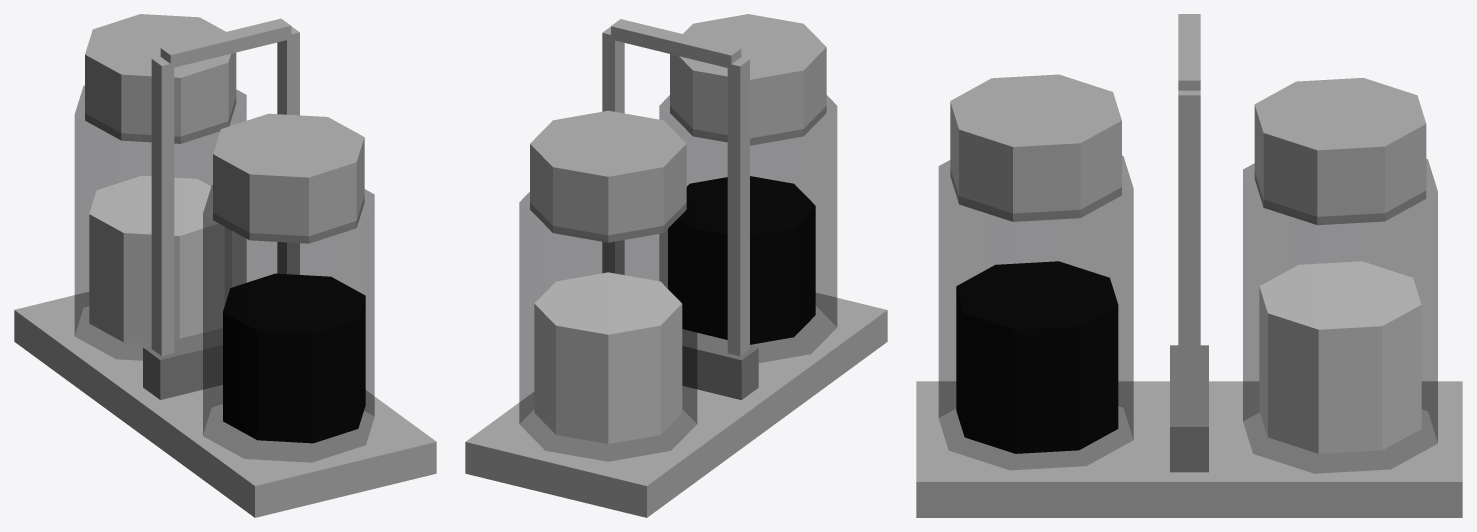
Rendered from SM_foodSaltPepper.glb.
3 renders of one model, left to right at view 1: azimuth 30°, elevation 25°; view 2: azimuth 150°, elevation 25°; view 3: azimuth 270°, elevation 25°, orthographic. The views are drawn at different scales.
Parts seen in each view (by area): view 1: SM_foodSaltPepper; view 2: SM_foodSaltPepper; view 3: SM_foodSaltPepper.
Part boxes in pixels (<box>): SM_foodSaltPepper: <box>14,14,436,517</box>; SM_foodSaltPepper: <box>465,14,887,517</box>; SM_foodSaltPepper: <box>916,14,1462,517</box>.
Size of the model in its own units: 0.1177 by 0.2295 by 0.2703.
Materials: 2 (1 with a texture image).
